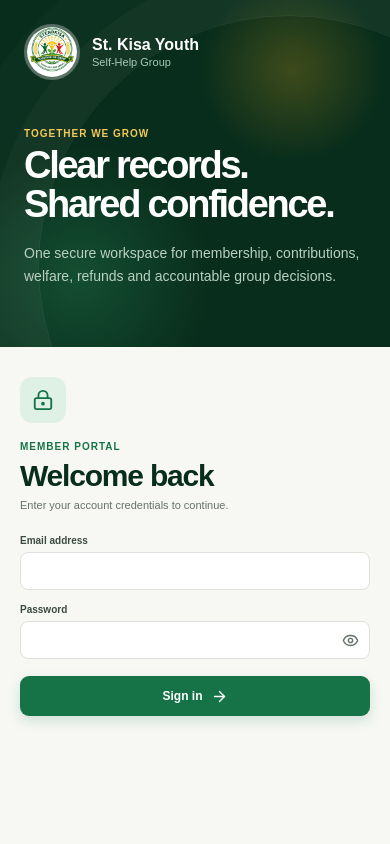
Test: St. Kisa member portal › opens and closes the mobile navigation
Step 1. Type "admin@stkisa.org" into the field labelled "Email address" → x=195, y=571, box [20, 552, 370, 590]
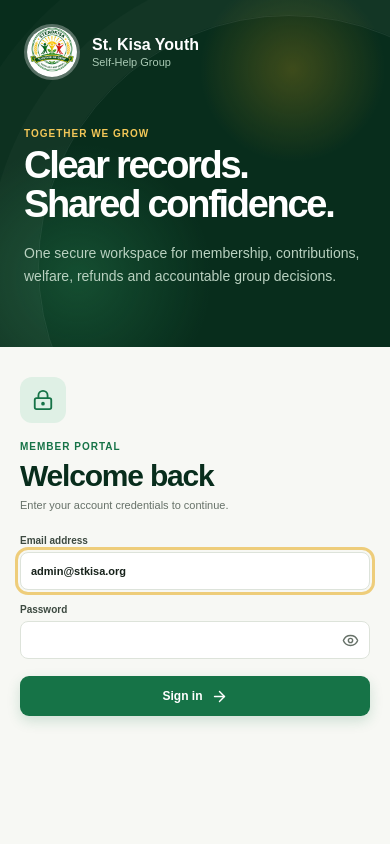
Step 2. Type "Demo@2026" into the password field labelled "Password" → x=195, y=640, box [20, 621, 370, 659]
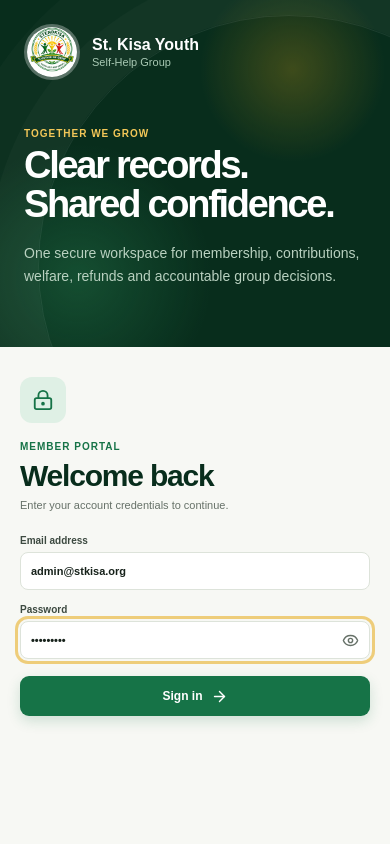
Step 3. Click the button "Sign in" → x=195, y=696, box [20, 676, 370, 716]
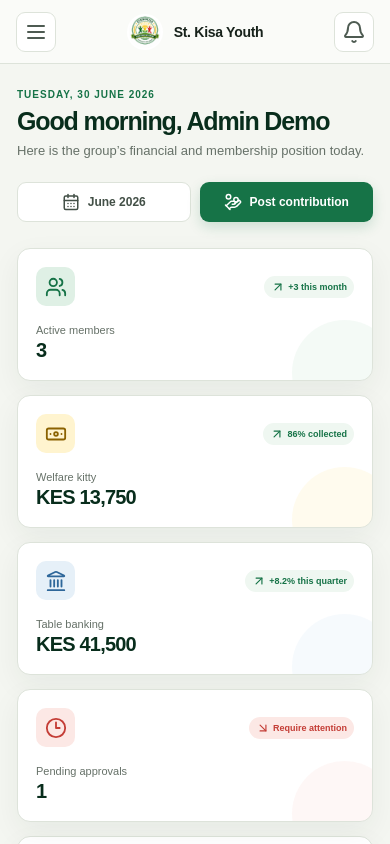
Step 4. Click the button named "Open navigation" → x=36, y=32, box [16, 12, 56, 52]
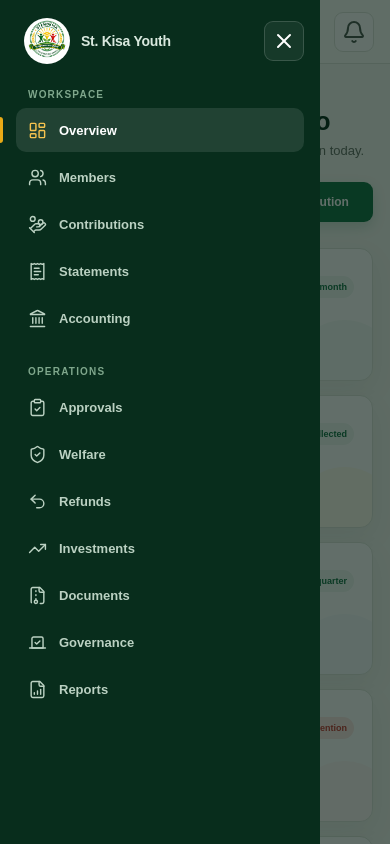
Expected: the dialog is shown
Step 5. Click the 2nd button named "Close navigation" → x=284, y=41, box [264, 21, 304, 61]
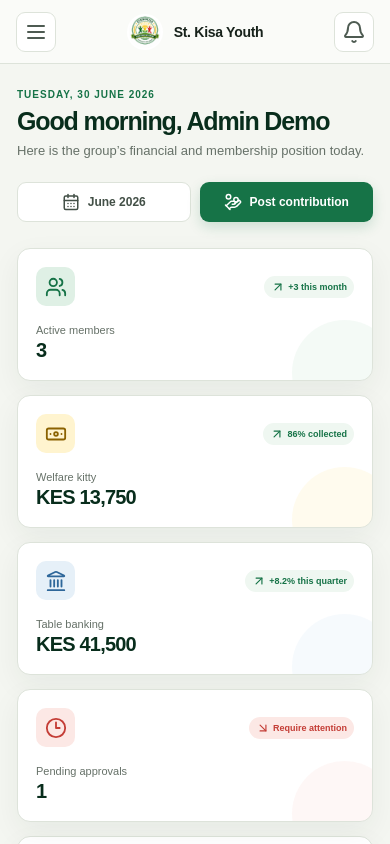
Expected: the dialog is gone
